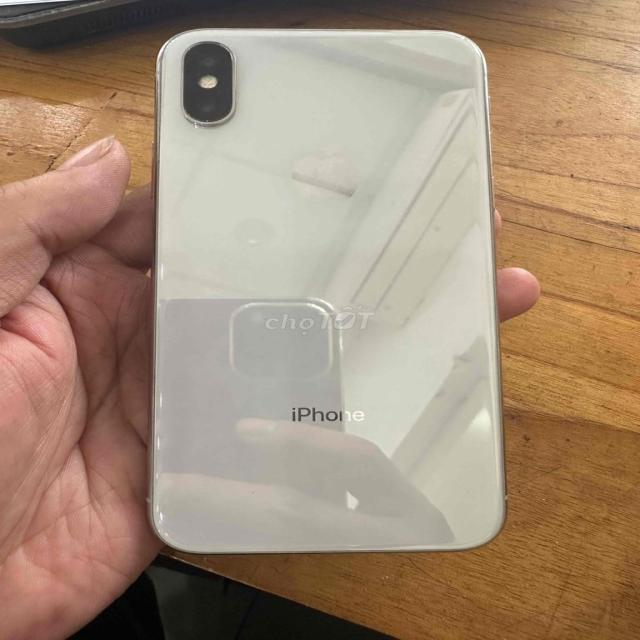gen_x_xs: (142, 28, 506, 554)
